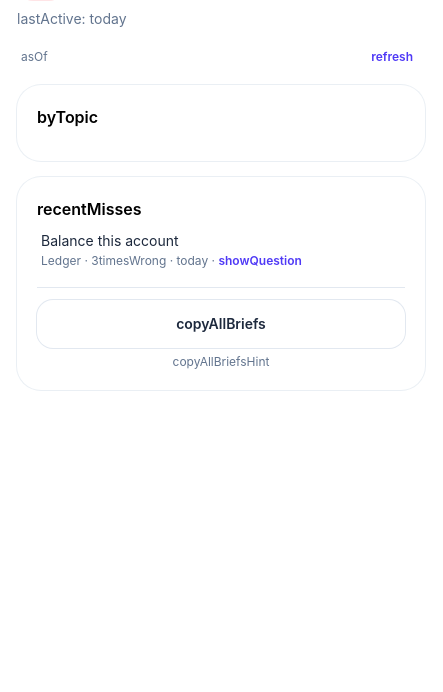
it: the teacher note › does NOT say saved when the write failed
This screenshot has width=443, height=692.
Click the text "Balance this account": (110, 240) [41,232,179,249]
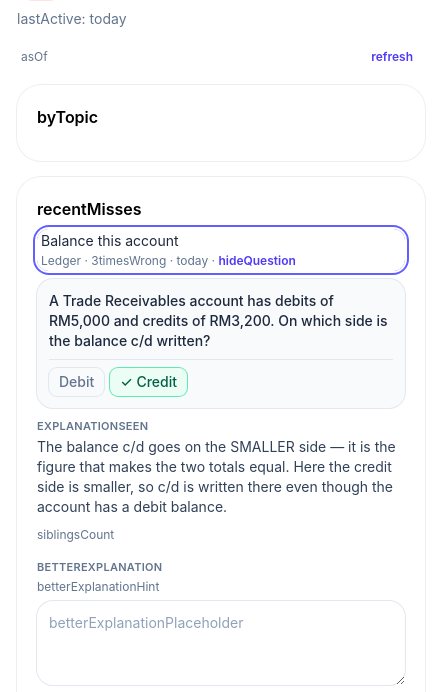
In the text box labelled "betterExplanation": (221, 642) [37,600,405,684], type "This will not land."
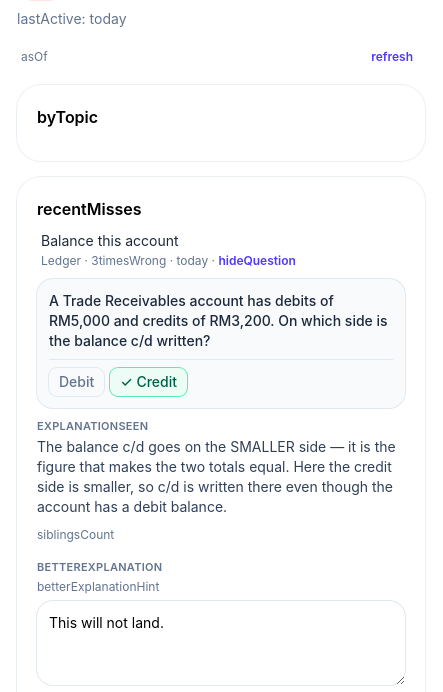
Press Tab
(page scrolled)
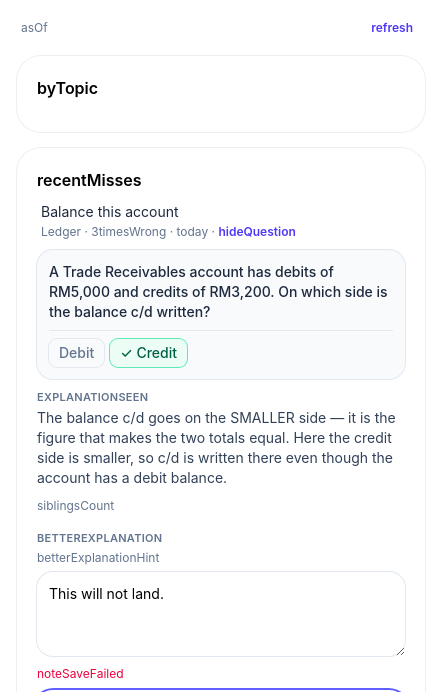
Expected: the message does not show "noteSaved", [37,666,124,680]
Expected: the message reads "noteSaveFailed", [37,666,124,680]
